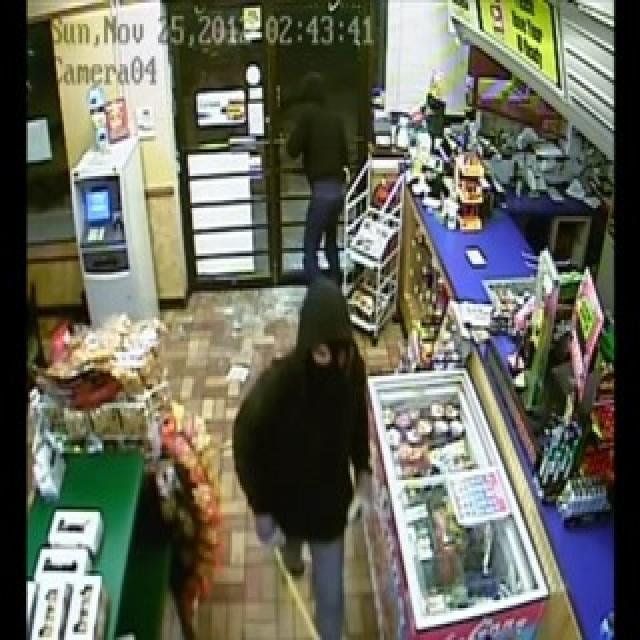thief: (238, 284, 384, 638), (292, 72, 354, 281)
